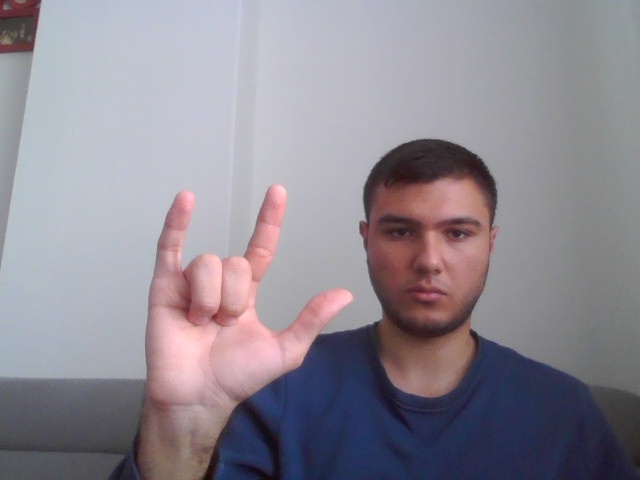ı love you: (143, 184, 354, 409)
